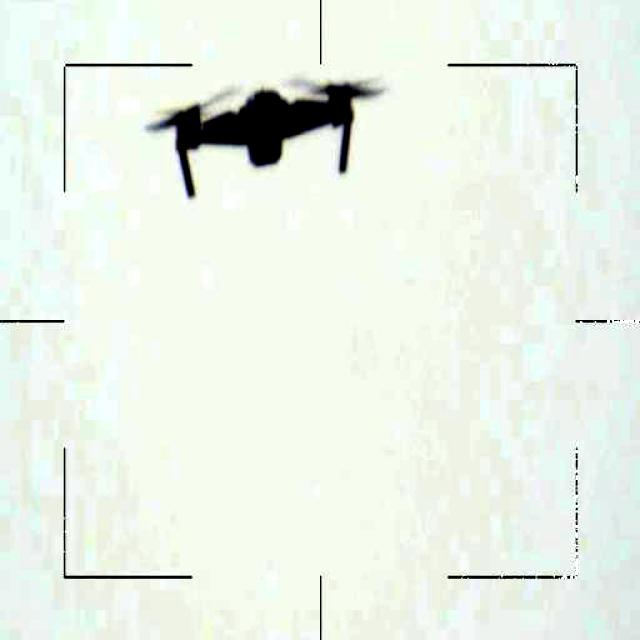bird: (142, 66, 396, 205)
